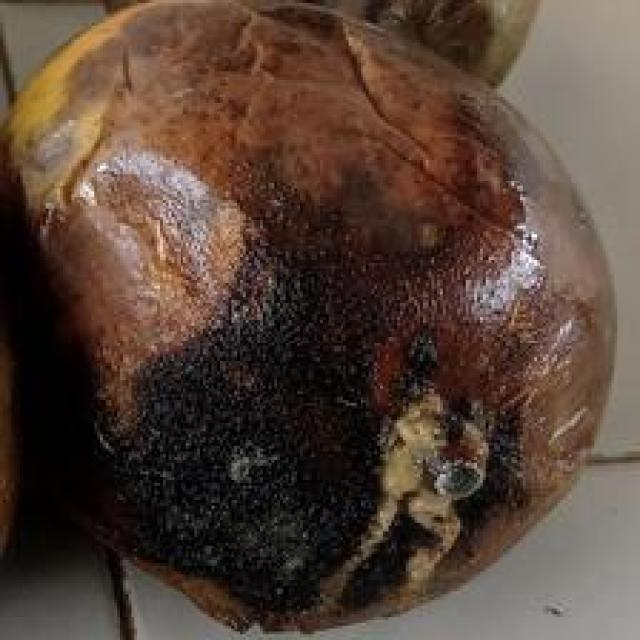Bad_Mango: (9, 4, 609, 626)
